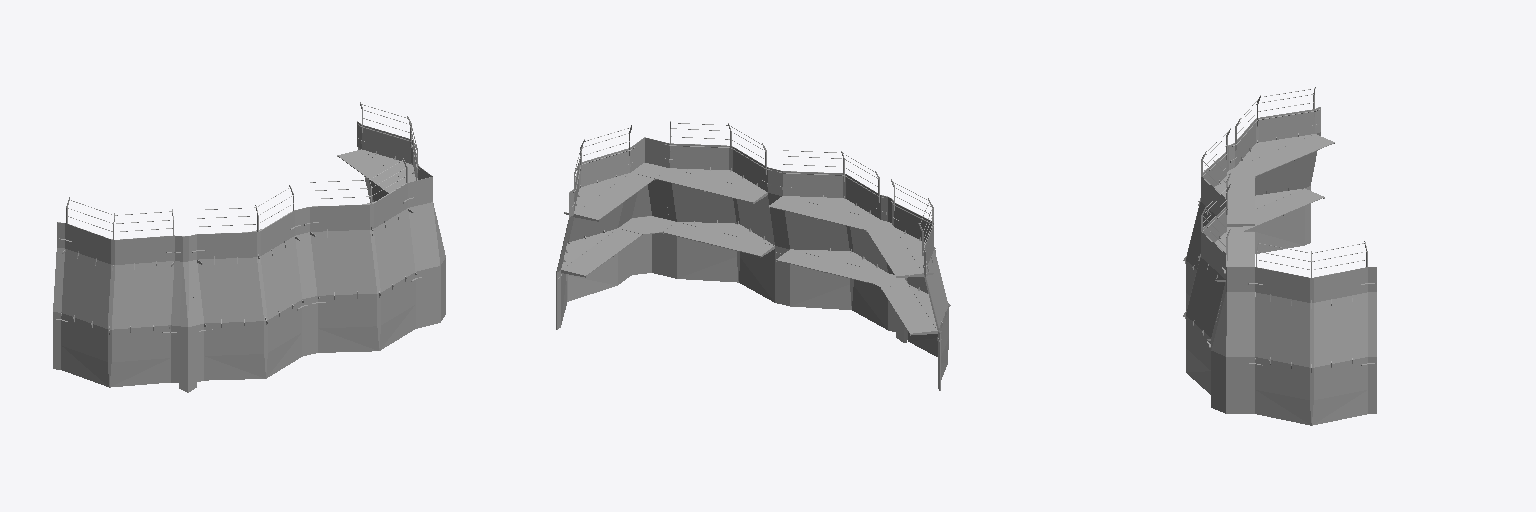
The model's file is wall.obj.
3 renders of one model, left to right at view 1: azimuth 30°, elevation 25°; view 2: azimuth 150°, elevation 25°; view 3: azimuth 270°, elevation 25°, orthographic.
Visible parts, largest first — view 1: wall, wall_45, wall_90, Object10; view 2: wall, wall_90, wall_45, Object09; view 3: wall_90, wall_45, wall.
Part boxes in pixels (x1,y1,x2,y2): wall: (189,158,422,381); wall_45: (53,197,182,387); wall_90: (337,102,445,326); Object10: (179,236,196,392); wall: (655,121,895,331); wall_90: (556,125,668,329); wall_45: (867,179,950,390); Object09: (618,216,675,234); wall_90: (1211,240,1376,425); wall_45: (1228,87,1334,253); wall: (1183,128,1254,394).
Size of the model in its own units: 1530 by 679 by 685.